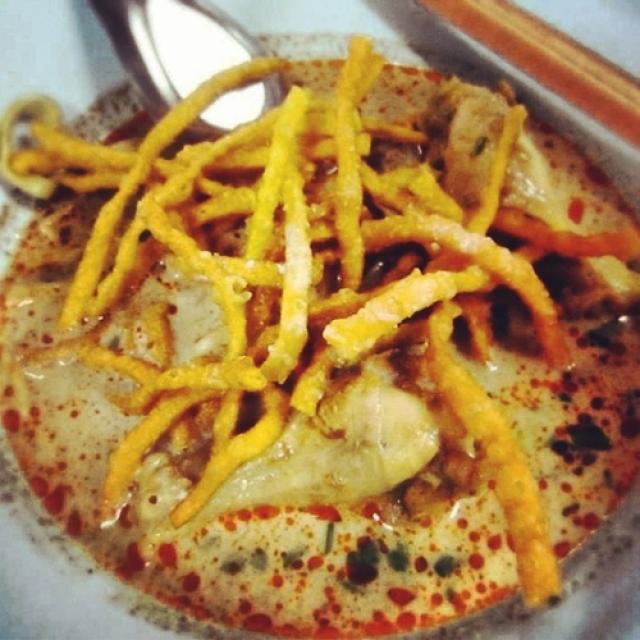面条主食: (30, 42, 628, 628)
